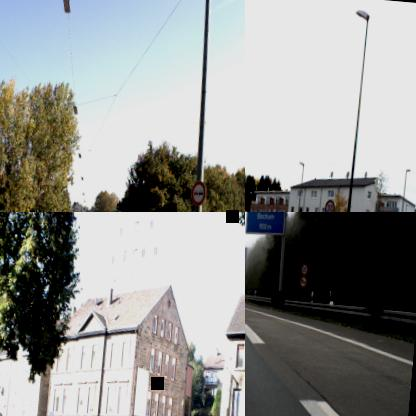no overtaking (trucks): (190, 179, 208, 207)
no overtaking -trucks-: (298, 274, 308, 290)
speed limit 120: (300, 262, 309, 276)
speed limit 30: (324, 198, 336, 212)
